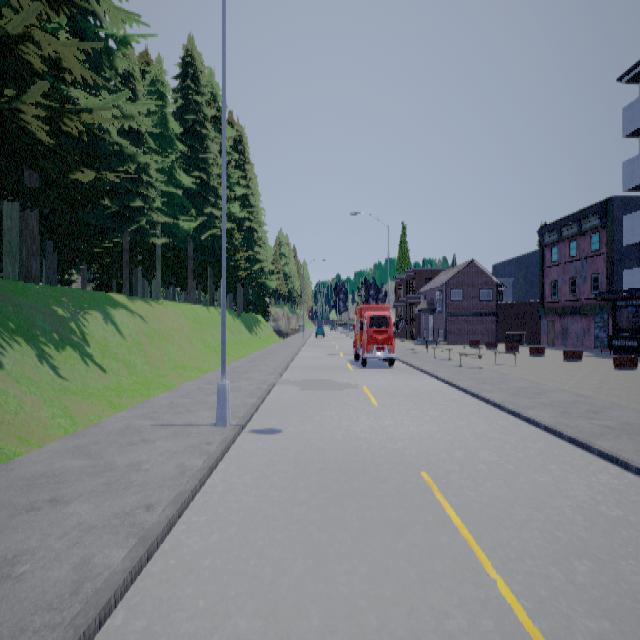vehicle: (354, 303, 400, 366), (317, 323, 327, 337)
